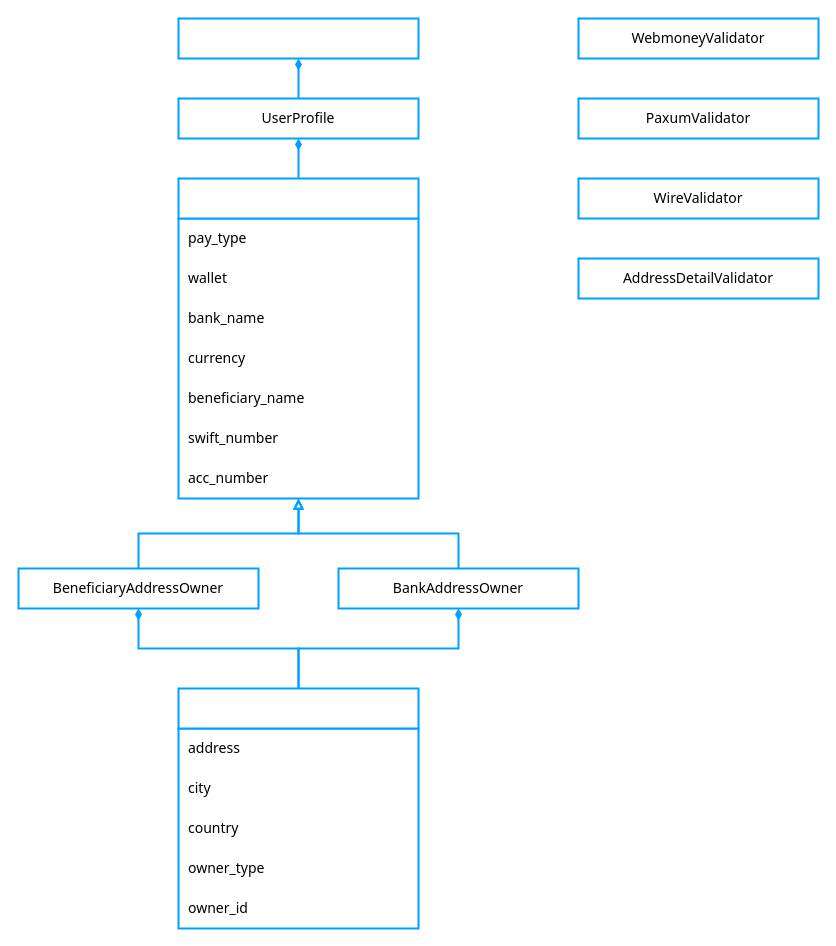
Some shapes in this 836 by 946 pixel diagram are drawn without their labels. The centre of each missing label's shape, as x and y in pixels:
"AddressDetail" belongs at point (298, 708).
"PaymentInfo" belongs at point (298, 198).
"User" belongs at point (298, 38).
